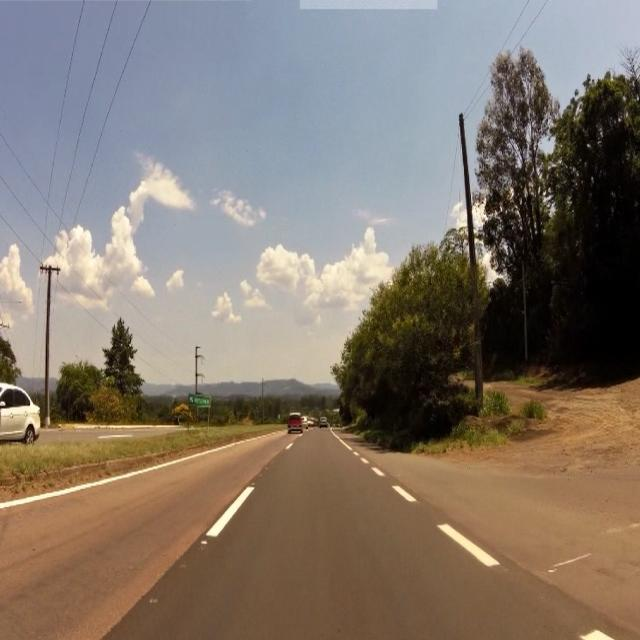I-4: (189, 396, 211, 410)
